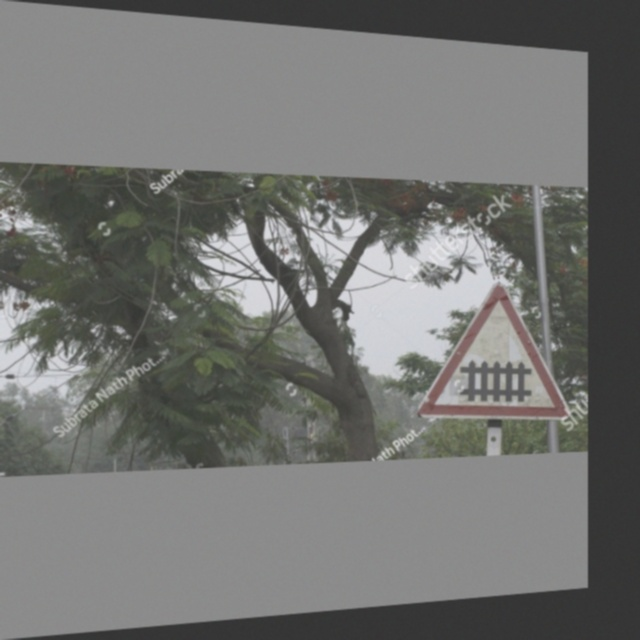Guarded_Level_Crossing: (419, 283, 566, 423)
